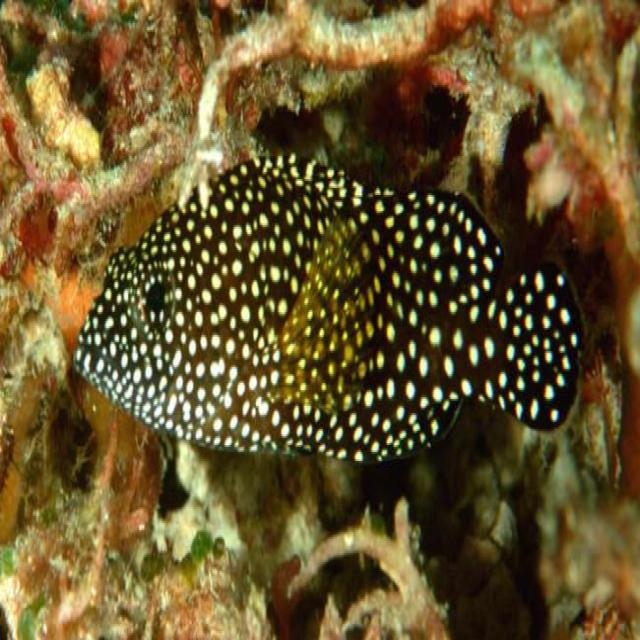ikan: (52, 128, 593, 492)
